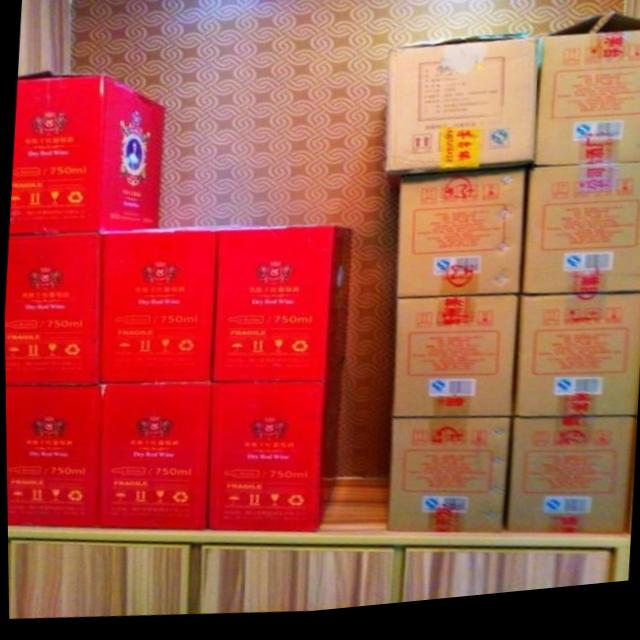box: (9, 71, 166, 238), (211, 232, 353, 389), (386, 46, 532, 191), (207, 381, 341, 536), (98, 231, 230, 385), (96, 385, 209, 532), (530, 25, 640, 176), (517, 175, 640, 307), (512, 304, 640, 428), (394, 182, 522, 303), (501, 428, 634, 543), (384, 424, 513, 542), (392, 305, 519, 424), (4, 234, 99, 384), (4, 386, 100, 530)
